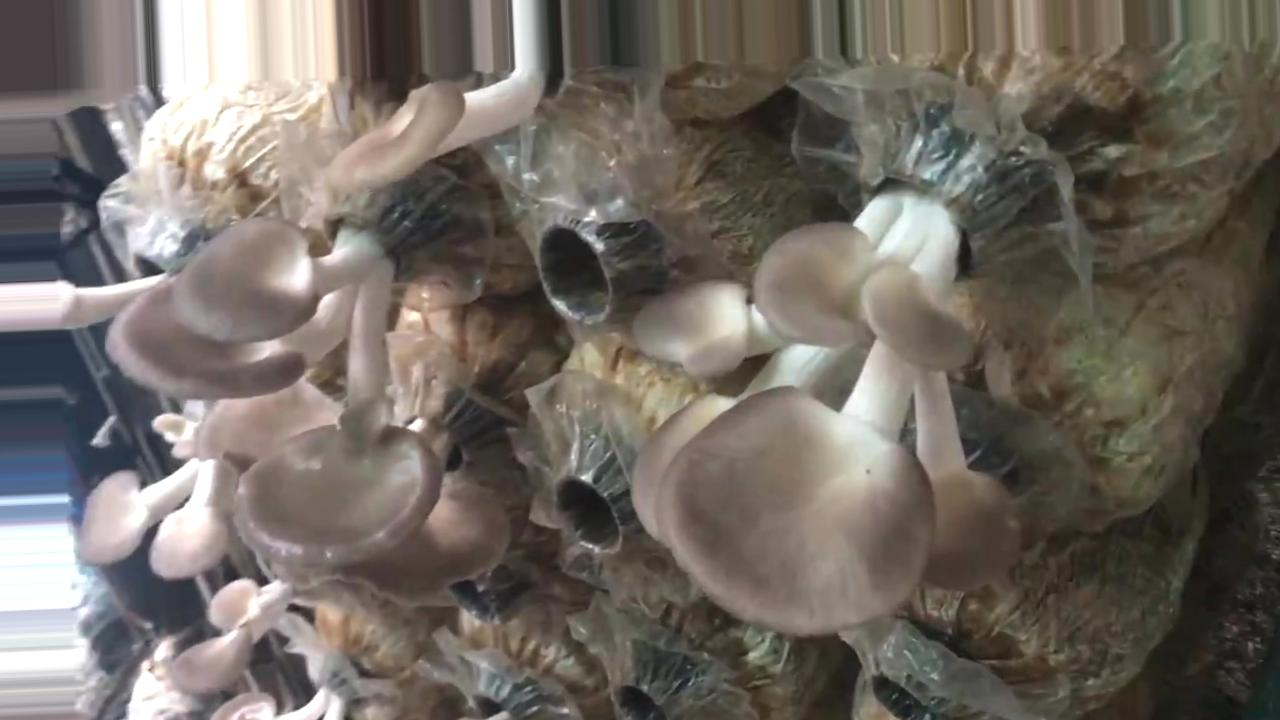nam: (631, 123, 1021, 635), (1, 193, 442, 569), (337, 1, 550, 184), (82, 410, 239, 581), (170, 578, 303, 695)
